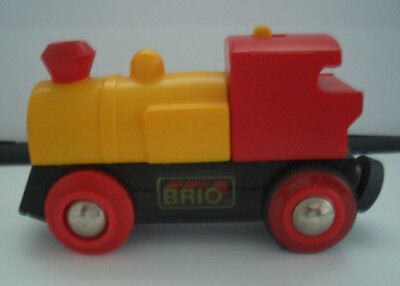brio: (13, 32, 379, 261)
